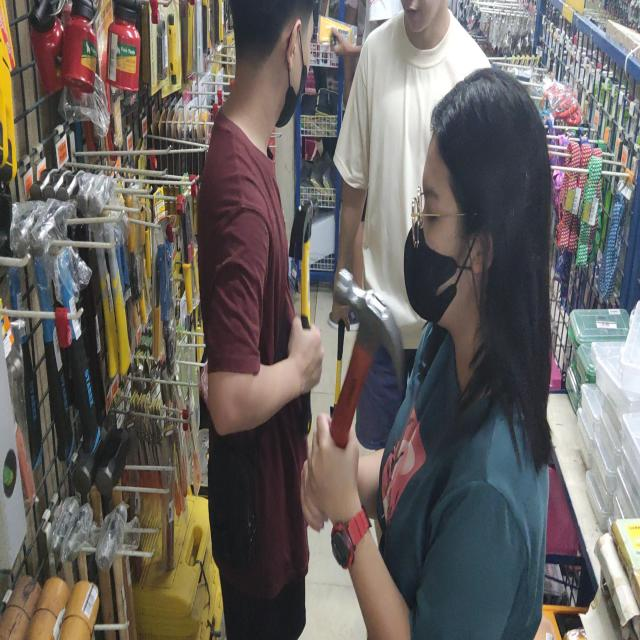hammer: (329, 268, 404, 452), (289, 200, 318, 435)
